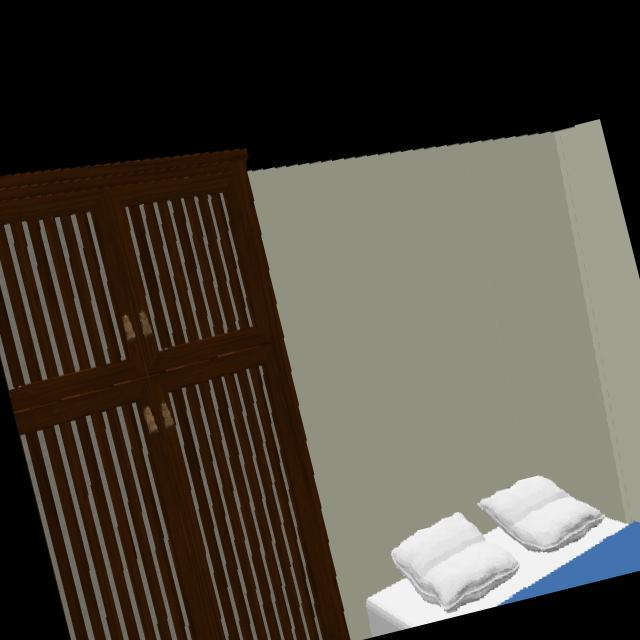bed: (365, 477, 640, 637)
pillow: (415, 513, 521, 613), (477, 477, 605, 552)
wardrobe: (0, 149, 350, 640)
